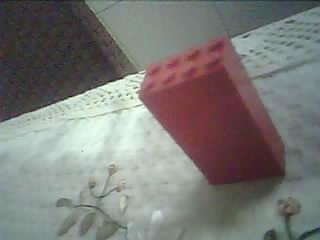lego: (137, 35, 285, 186)
